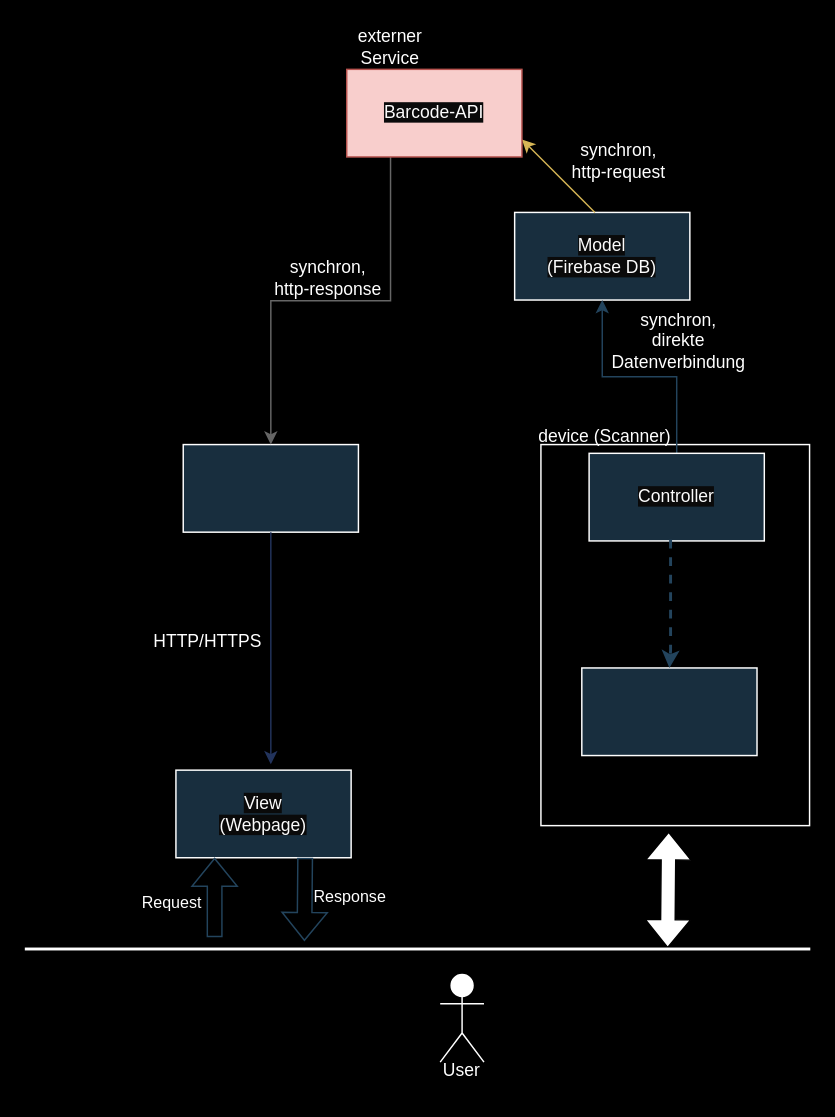
The diagram is 835 pixels wide and 1117 high, and some of its shapes have lost their labels. Here are the shapes that lost their labels. From the top down, the box of each, then its label:
(182, 443, 358, 532): Controller (Logik)
(580, 666, 757, 756): View (Display an Scanner)
